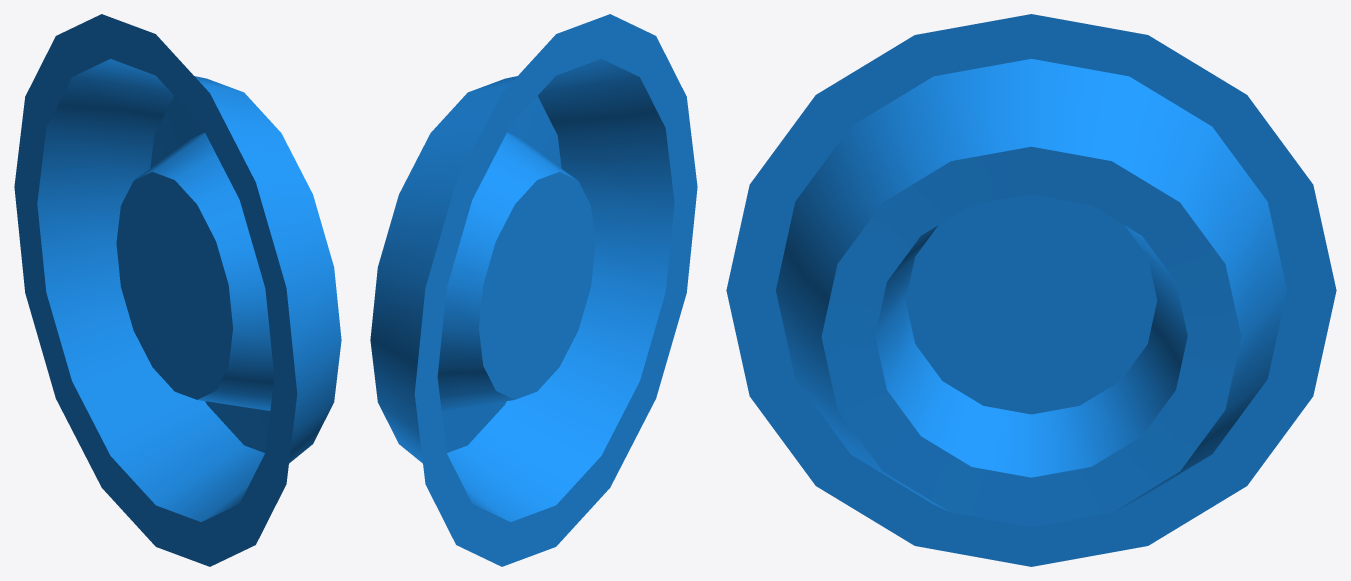
Rendered from Car3WheelPart2.fbx.
3 views of the same model, side by side, from view 1: azimuth 30°, elevation 25°; view 2: azimuth 150°, elevation 25°; view 3: azimuth 270°, elevation 25° (orthographic). The views are drawn at different scales.
Visible parts, largest first — view 1: Car3WheelPart2; view 2: Car3WheelPart2; view 3: Car3WheelPart2.
Part boxes in pixels (bbox=[...]): Car3WheelPart2: bbox=[14, 14, 341, 566]; Car3WheelPart2: bbox=[370, 14, 697, 566]; Car3WheelPart2: bbox=[726, 14, 1336, 566].
Bounding box in the file's own units: 0.1049 × 0.5817 × 0.5817.
